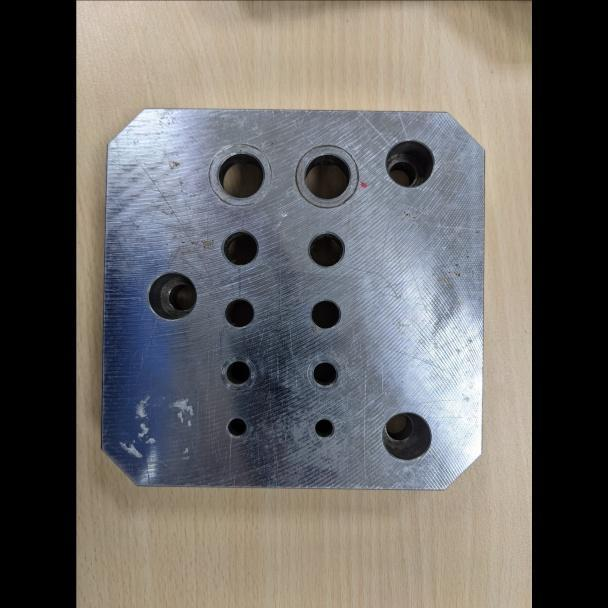hole: (287, 135, 368, 212), (203, 136, 279, 210), (373, 405, 443, 468), (377, 132, 441, 195), (140, 265, 202, 326), (300, 224, 351, 273), (212, 224, 266, 270), (214, 347, 263, 396), (302, 293, 346, 336), (217, 292, 264, 332), (303, 353, 348, 394), (305, 408, 346, 447), (219, 408, 258, 445)
